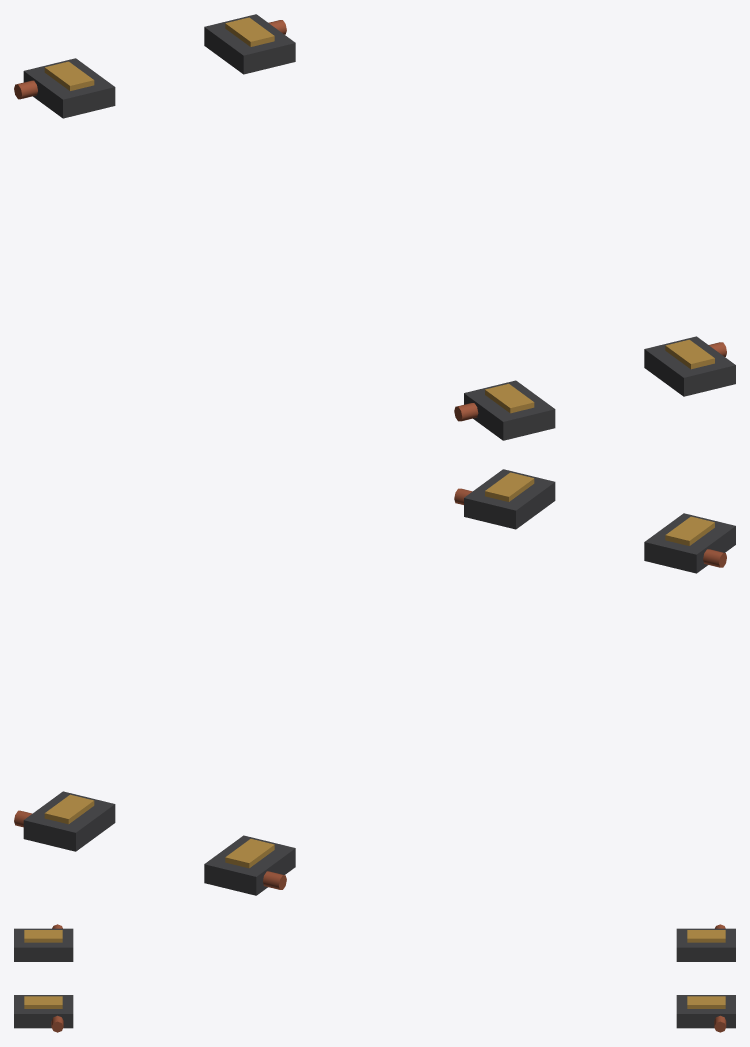
Rendered from boat20_release.obj.
3 renders of one model, top to bottom at view 1: azimuth 30°, elevation 25°; view 2: azimuth 150°, elevation 25°; view 3: azimuth 270°, elevation 25°, orthographic. The views are drawn at different scales.
Parts seen in each view (by area): view 1: boat20_release; view 2: boat20_release; view 3: boat20_release.
Part boxes in pixels (x1,y1,x2,y2): boat20_release: (14, 14, 735, 440); boat20_release: (14, 469, 735, 895); boat20_release: (14, 924, 735, 1032).
Size of the model in its own units: 1.32 by 0.115 by 4.14.
